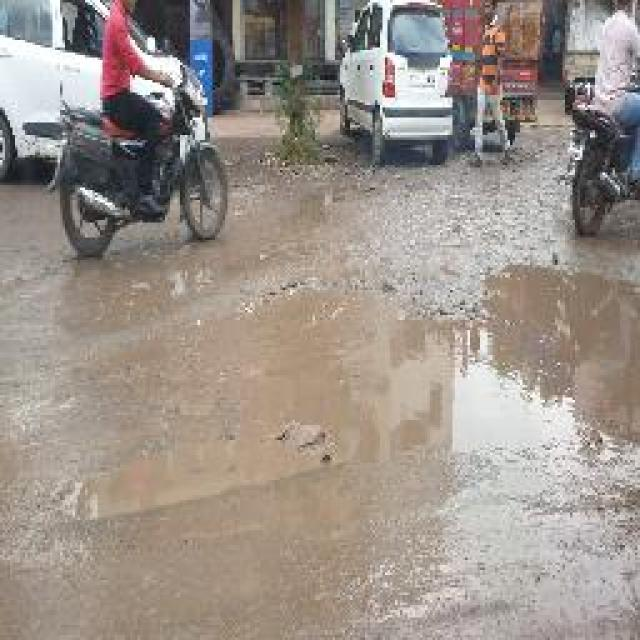stagnation: (273, 279, 640, 491)
